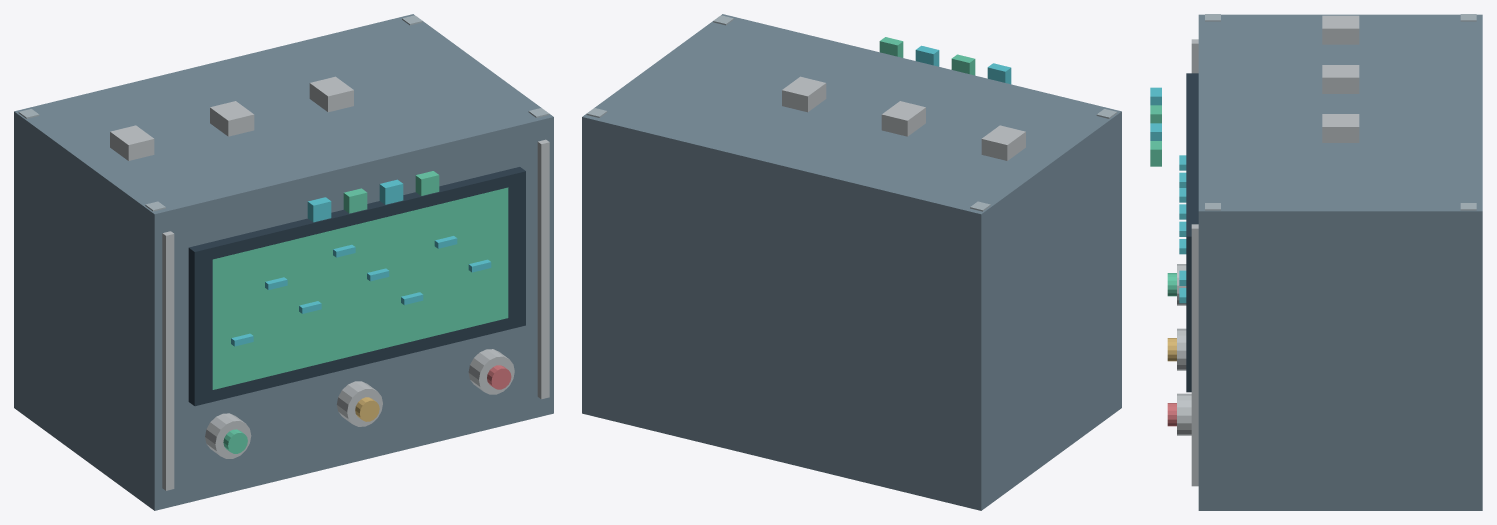
Rendered from 24_L79_ChuckReleaseConditionMonitor.glb.
The picture shows the model from 3 angles, left to right: view 1: azimuth 30°, elevation 25°; view 2: azimuth 150°, elevation 25°; view 3: azimuth 270°, elevation 25°; orthographic projection.
Visible parts, largest first — view 1: ChuckReleaseConditionMonitor_Node_0000, ChuckReleaseConditionMonitor_Node_0008, ChuckReleaseConditionMonitor_Node_0007, ChuckReleaseConditionMonitor_Node_0005, ChuckReleaseConditionMonitor_Node_0006, ChuckReleaseConditionMonitor_Node_0025, ChuckReleaseConditionMonitor_Node_0024, ChuckReleaseConditionMonitor_Node_0023, ChuckReleaseConditionMonitor_Node_0021, ChuckReleaseConditionMonitor_Node_0019, ChuckReleaseConditionMonitor_Node_0017; view 2: ChuckReleaseConditionMonitor_Node_0000, ChuckReleaseConditionMonitor_Node_0025, ChuckReleaseConditionMonitor_Node_0024, ChuckReleaseConditionMonitor_Node_0023; view 3: ChuckReleaseConditionMonitor_Node_0000, ChuckReleaseConditionMonitor_Node_0007, ChuckReleaseConditionMonitor_Node_0006, ChuckReleaseConditionMonitor_Node_0023, ChuckReleaseConditionMonitor_Node_0024, ChuckReleaseConditionMonitor_Node_0025, ChuckReleaseConditionMonitor_Node_0021, ChuckReleaseConditionMonitor_Node_0019.
Part boxes in pixels (bbox=[...]): ChuckReleaseConditionMonitor_Node_0000: bbox=[14, 14, 553, 510]; ChuckReleaseConditionMonitor_Node_0008: bbox=[212, 187, 508, 389]; ChuckReleaseConditionMonitor_Node_0007: bbox=[188, 167, 525, 406]; ChuckReleaseConditionMonitor_Node_0005: bbox=[162, 231, 174, 490]; ChuckReleaseConditionMonitor_Node_0006: bbox=[537, 139, 549, 399]; ChuckReleaseConditionMonitor_Node_0025: bbox=[309, 76, 353, 112]; ChuckReleaseConditionMonitor_Node_0024: bbox=[210, 101, 254, 136]; ChuckReleaseConditionMonitor_Node_0023: bbox=[110, 125, 154, 160]; ChuckReleaseConditionMonitor_Node_0021: bbox=[468, 349, 514, 394]; ChuckReleaseConditionMonitor_Node_0019: bbox=[336, 381, 382, 426]; ChuckReleaseConditionMonitor_Node_0017: bbox=[205, 413, 251, 458]; ChuckReleaseConditionMonitor_Node_0000: bbox=[582, 14, 1121, 510]; ChuckReleaseConditionMonitor_Node_0025: bbox=[782, 76, 826, 112]; ChuckReleaseConditionMonitor_Node_0024: bbox=[881, 101, 925, 136]; ChuckReleaseConditionMonitor_Node_0023: bbox=[981, 125, 1025, 160]; ChuckReleaseConditionMonitor_Node_0000: bbox=[1198, 14, 1482, 510]; ChuckReleaseConditionMonitor_Node_0007: bbox=[1186, 73, 1198, 392]; ChuckReleaseConditionMonitor_Node_0006: bbox=[1191, 224, 1198, 486]; ChuckReleaseConditionMonitor_Node_0023: bbox=[1322, 15, 1359, 44]; ChuckReleaseConditionMonitor_Node_0024: bbox=[1322, 65, 1359, 93]; ChuckReleaseConditionMonitor_Node_0025: bbox=[1322, 114, 1359, 142]; ChuckReleaseConditionMonitor_Node_0021: bbox=[1177, 393, 1191, 435]; ChuckReleaseConditionMonitor_Node_0019: bbox=[1177, 328, 1186, 370].
Size of the model in its own units: 1 by 0.7481 by 0.7144.
